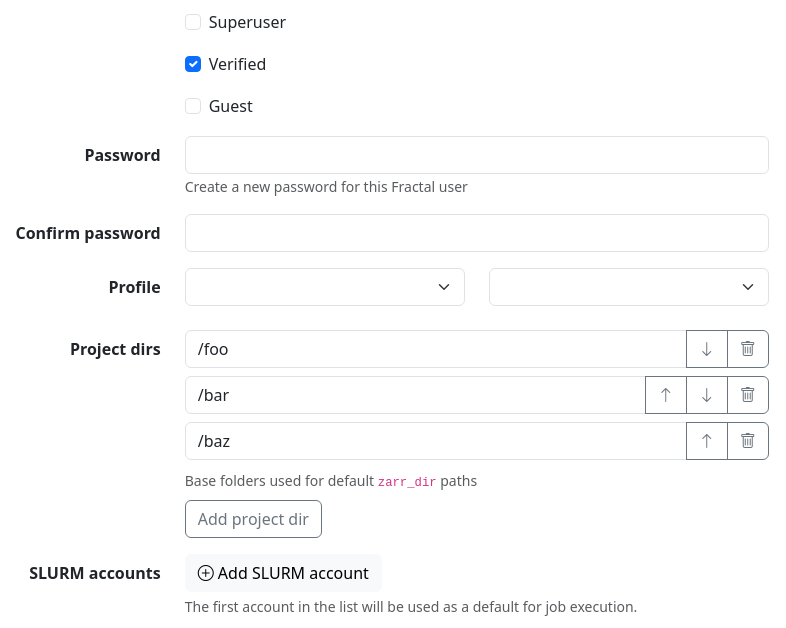
Test: UserEditor › Update settings - move project dir up
The width and height of the screenshot is (786, 628).
Click the 2nd button named "Move project dir up" at (707, 441), box [686,422,728,460]
(page scrolled)
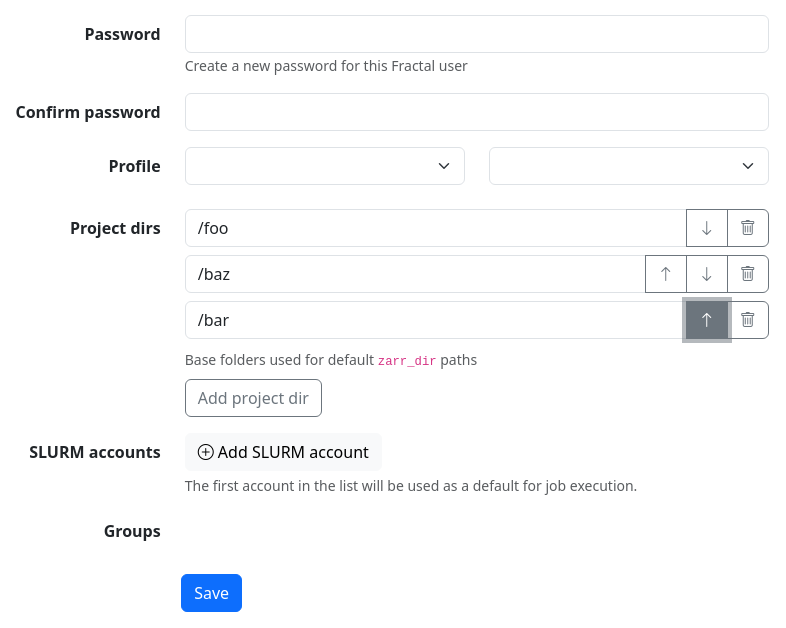
Click the button "Save" at (212, 593), box [181,574,242,612]
(page scrolled)
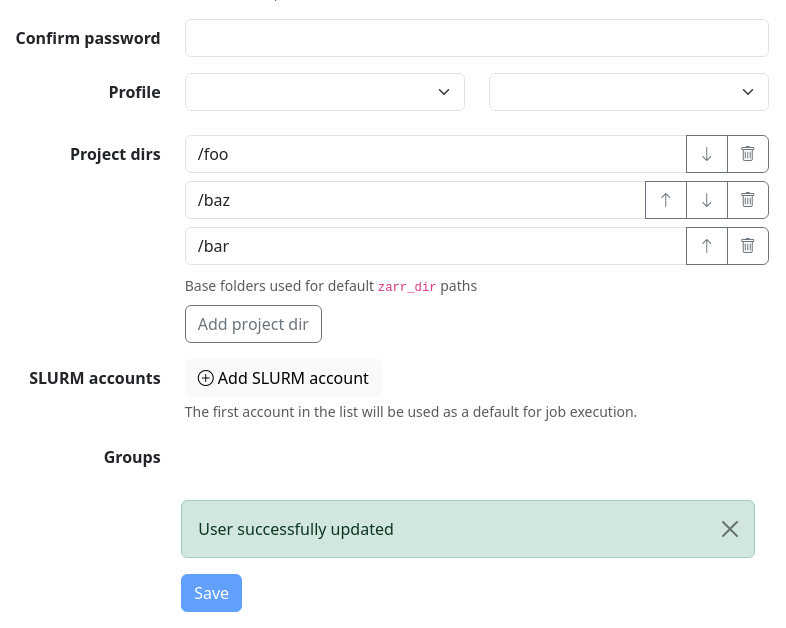
Now the text "User successfully updated" is shown, box [181,500,755,558]
